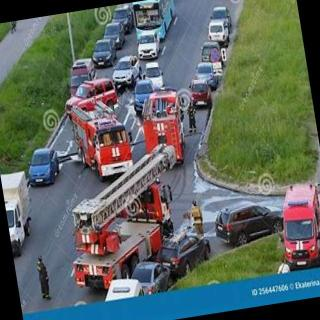Fire_truck: (56, 140, 194, 294), (66, 91, 136, 185), (136, 84, 190, 169), (0, 168, 40, 258), (130, 0, 179, 44)
